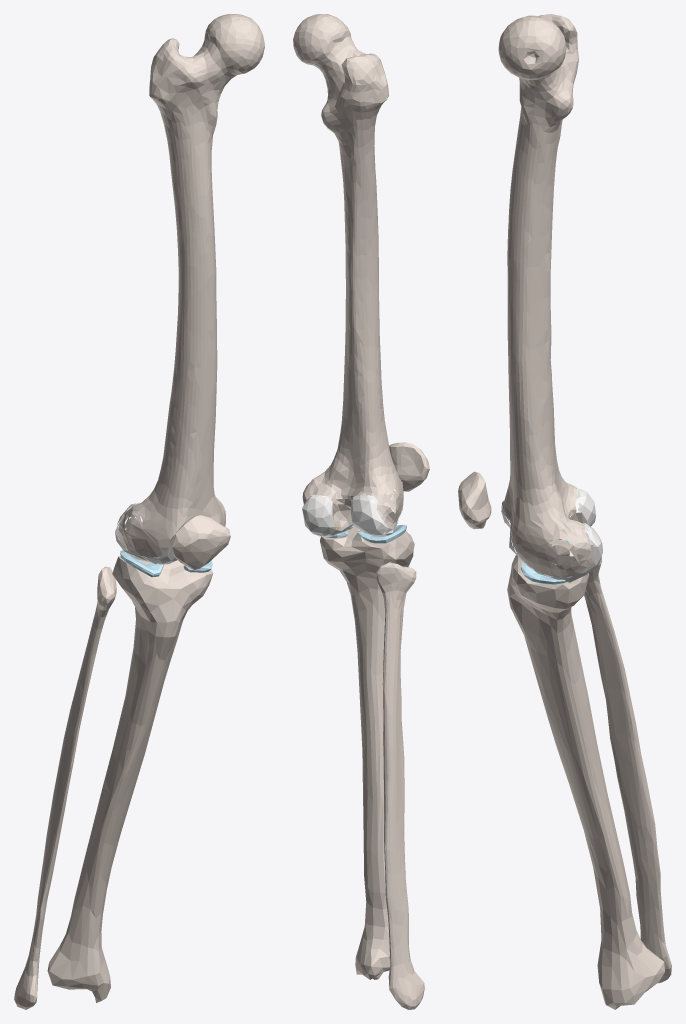
File: VH_M_Knee_R_0.2.glb
3 renders of one model, left to right at view 1: azimuth 30°, elevation 25°; view 2: azimuth 150°, elevation 25°; view 3: azimuth 270°, elevation 25°, orthographic. The views are drawn at different scales.
Parts seen in each view (by area): view 1: VH_M_femur_R, VH_M_tibia_R, VH_M_fibula_R, VH_M_patella_R, VH_M_meniscus_R; view 2: VH_M_femur_R, VH_M_tibia_R, VH_M_fibula_R, VH_M_patella_R, VH_M_medial_condyle_of_right_femur_inf, VH_M_lateral_condyle_of_femur_inf_R, VH_M_meniscus_R; view 3: VH_M_femur_R, VH_M_tibia_R, VH_M_fibula_R, VH_M_patella_R, VH_M_articular_cartilage_of_knee_R.
Boxes of the visible parts, bbox=[...] form: VH_M_femur_R: bbox=[118, 14, 264, 557]; VH_M_tibia_R: bbox=[47, 556, 213, 1002]; VH_M_fibula_R: bbox=[14, 566, 116, 1009]; VH_M_patella_R: bbox=[169, 515, 230, 569]; VH_M_meniscus_R: bbox=[120, 549, 212, 577]; VH_M_femur_R: bbox=[293, 14, 403, 528]; VH_M_tibia_R: bbox=[320, 526, 414, 979]; VH_M_fibula_R: bbox=[376, 562, 424, 1009]; VH_M_patella_R: bbox=[389, 442, 429, 491]; VH_M_medial_condyle_of_right_femur_inf: bbox=[302, 495, 336, 535]; VH_M_lateral_condyle_of_femur_inf_R: bbox=[351, 495, 386, 534]; VH_M_meniscus_R: bbox=[326, 523, 406, 543]; VH_M_femur_R: bbox=[498, 14, 592, 577]; VH_M_tibia_R: bbox=[507, 539, 664, 1009]; VH_M_fibula_R: bbox=[584, 540, 671, 983]; VH_M_patella_R: bbox=[458, 471, 491, 529]; VH_M_articular_cartilage_of_knee_R: bbox=[502, 488, 595, 582].
Size of the model in its own units: 0.1737 by 0.8875 by 0.1647.
